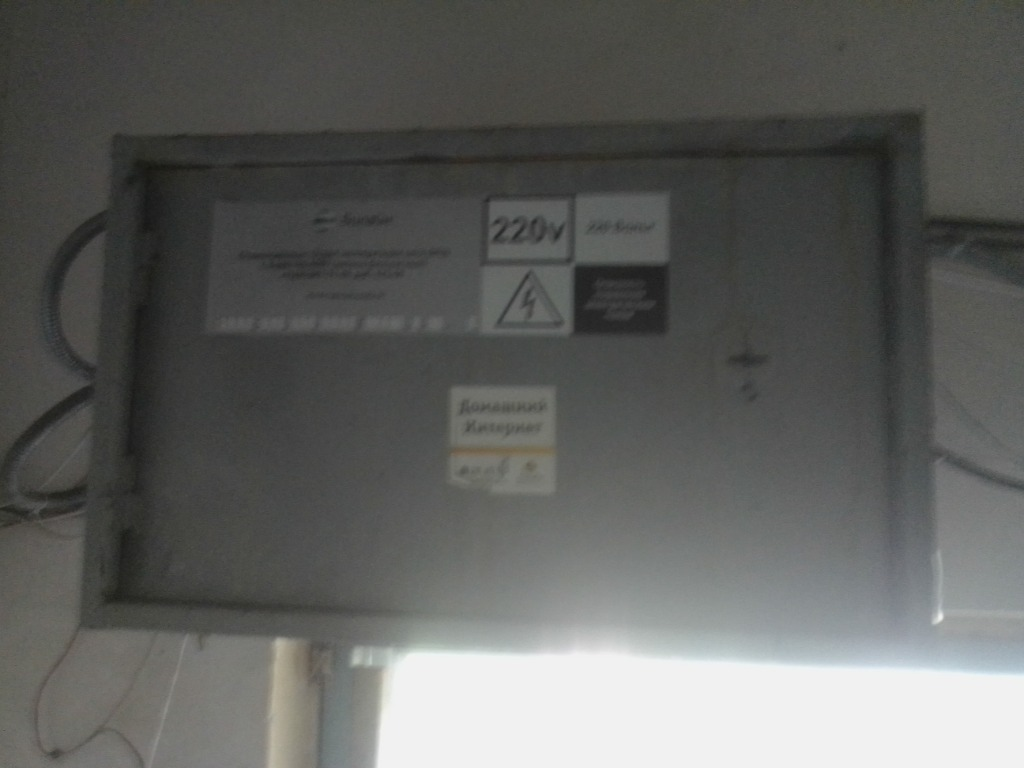e2-6u: (52, 98, 957, 664)
